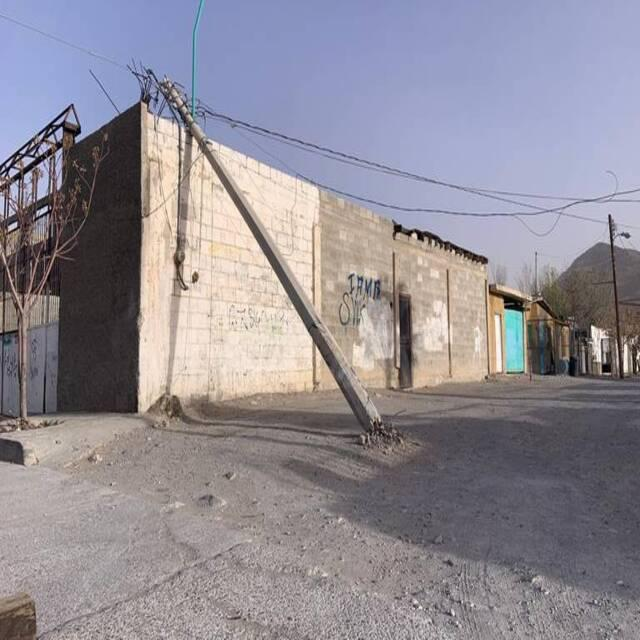Inclined Pole: (156, 75, 387, 426)
